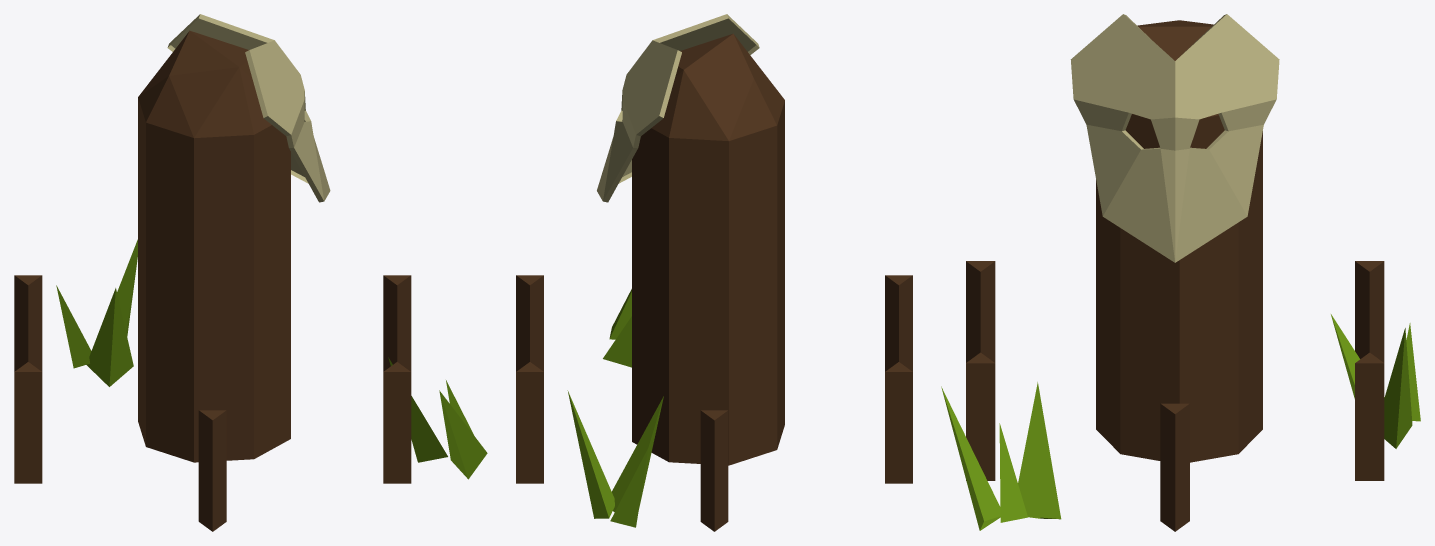
Rendered from Human-Idol.fbx.
3 renders of one model, left to right at view 1: azimuth 30°, elevation 25°; view 2: azimuth 150°, elevation 25°; view 3: azimuth 270°, elevation 25°, orthographic. The views are drawn at different scales.
Visible parts, largest first — view 1: Human-Idol; view 2: Human-Idol; view 3: Human-Idol.
Part boxes in pixels (x1,y1,x2,y2): Human-Idol: (14, 14, 487, 531); Human-Idol: (516, 14, 912, 531); Human-Idol: (941, 14, 1420, 531).
Bounding box in the file's own units: 0.753 × 0.7474 × 0.7554.
